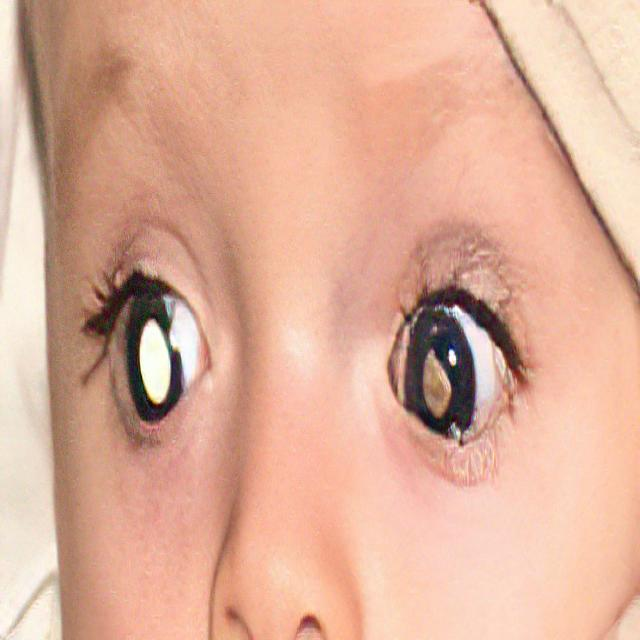reflexo-alterado: (76, 250, 232, 478), (383, 246, 513, 476)
